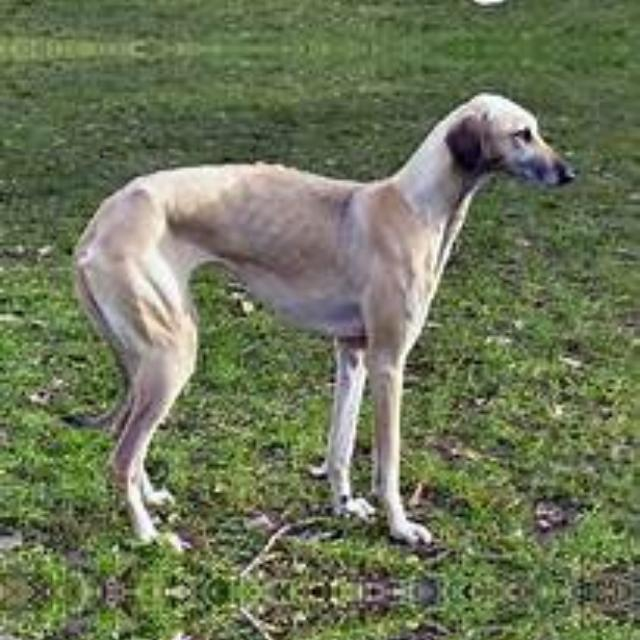dog: (53, 97, 579, 591), (53, 591, 579, 640)
